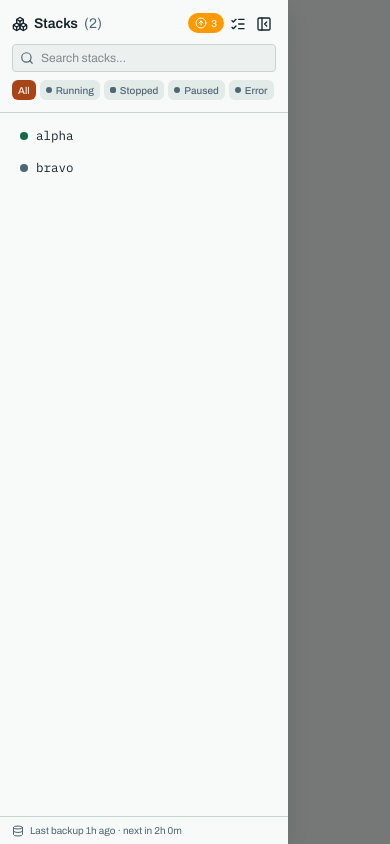
Sidebar › shows an empty state message when filters exclude every stack
This screenshot has width=390, height=844.
expect the text "alpha" is shown: met, box [36, 127, 74, 143]
In the field labelled "Search stacks": (144, 58) [12, 44, 276, 72], type "nonexistent"
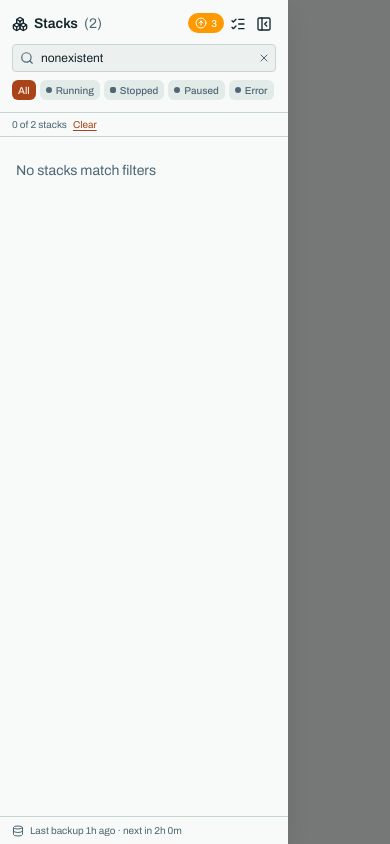
expect the text "No stacks match filters" is shown: met, box [16, 163, 156, 178]
